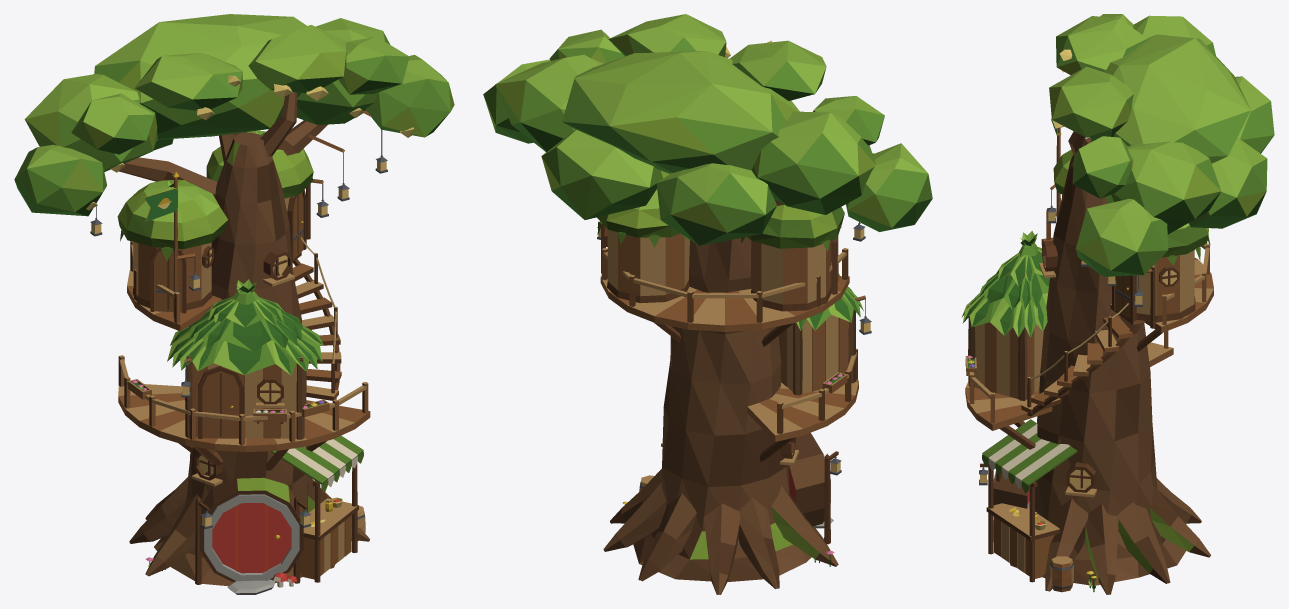
The model's file is home_tree_6.glb.
3 views of the same model, side by side, from view 1: azimuth 30°, elevation 25°; view 2: azimuth 150°, elevation 25°; view 3: azimuth 270°, elevation 25° (orthographic). The views are drawn at different scales.
Visible parts, largest first — view 1: home_tree_6, glow, banner; view 2: home_tree_6; view 3: home_tree_6, glow.
Boxes of the visible parts, x1=… form: home_tree_6: x1=14, y1=14, x2=454, y2=594; glow: x1=86, y1=75, x2=414, y2=526; banner: x1=144, y1=187, x2=178, y2=221; home_tree_6: x1=483, y1=14, x2=932, y2=594; home_tree_6: x1=961, y1=14, x2=1274, y2=594; glow: x1=980, y1=49, x2=1176, y2=489.
Bounding box in the file's own units: 8.25 × 9.24 × 5.34.
